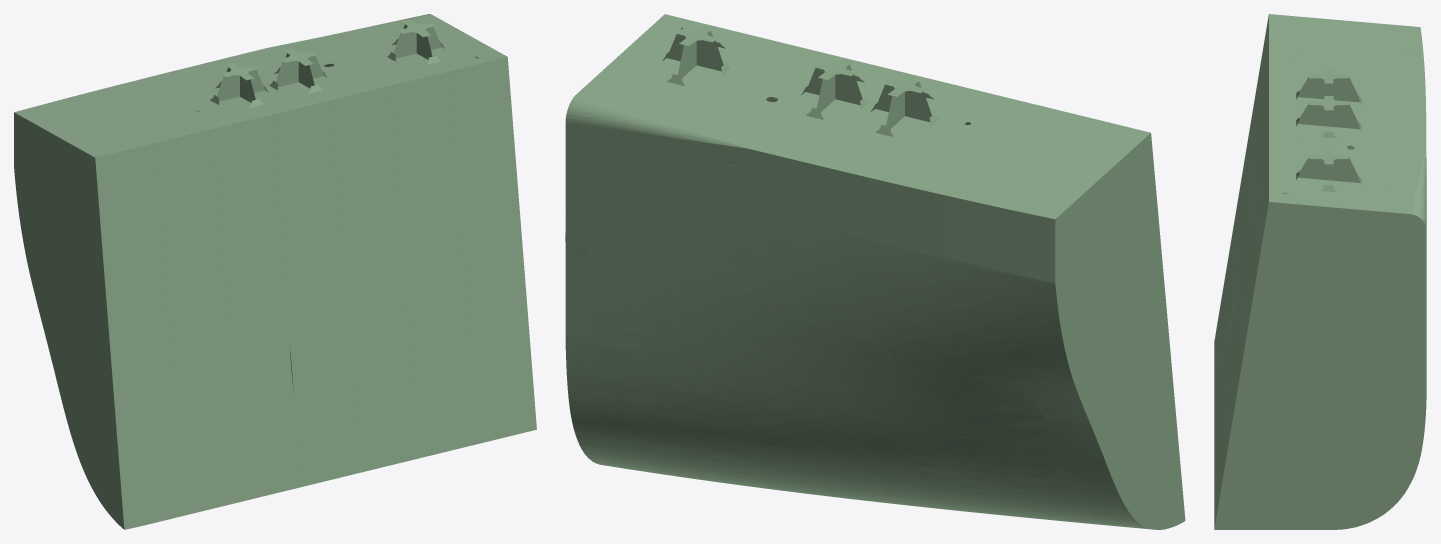
The model's file is NO_5_WING_CARGO_OIL_TK_PS.glb.
3 views of the same model, side by side, from view 1: azimuth 30°, elevation 25°; view 2: azimuth 150°, elevation 25°; view 3: azimuth 270°, elevation 25° (orthographic). The views are drawn at different scales.
Parts seen in each view (by area): view 1: PL_LBHDxNo6CenterTankP_028004-17_NVA32_1993, PL_LBHDxNo6CenterTankP_036001-19.5_NVA36_1993, PL_LBHDxNo6CenterTankP_020001-17.5_NVA32_1993, PL_LBHDxNo6CenterTankP_038004-20.5_NVA32_1993, PL_LBHDxNo6CenterTankP_029009-17_NVA32_1993, PL_LBHDxNo6CenterTankP_008004-15_NVA32_1993, PL_LBHDxNo6CenterTankP_036005-19.5_NVA36_1993, PL_LBHDxNo6CenterTankP_010004-15_NVA32_1993, PL_LBHDxNo6CenterTankP_026006-17.5_NVA36_1993, PL_LBHDxNo6CenterTankP_026004-17.5_NVA36_1993, PL_LBHDxNo6CenterTankP_011010-16_NVA32_1993, PL_LBHDxNo6CenterTankP_019010-17.5_NVA32_1993 (+117 smaller); view 2: PL_OuterShellxNo5SideTankP_021001-18.5_NVA32_1993, PL_OuterShellxNo5SideTankP_030002-18_NVA32_1993, PL_OuterShellxNo5SideTankP_005010-17.5_NVA32_1993, PL_OuterShellxNo5SideTankP_023001-18.5_NVA32_1993, PL_OuterShellxNo5SideTankP_020001-18.5_NVA32_1993, PL_OuterShellxNo5SideTankP_022002-18.5_NVA32_1993, PL_OuterShellxNo5SideTankP_003004-17.5_NVA32_1993, PL_OuterShellxNo5SideTankP_033004-18_NVA32_1993, PL_OuterShellxNo5SideTankP_007004-17.5_NVA32_1993, PL_OuterShellxNo5SideTankP_028002-18_NVA32_1993, PL_OuterShellxNo5SideTankP_005005-17.5_NVA32_1993, PL_OuterShellxNo5SideTankP_006004-17.5_NVA32_1993 (+145 smaller); view 3: PL_SideTransBHDxBHD60P_001001-19.5_NVA32_1993, PL_SideTransBHDxBHD60P_003001-18.5_NVA32_1993, PL_SideTransBHDxBHD60P_002001-19.5_NVA32_1993, PL_SideTransBHDxBHD60P_005001-18.5_NVA32_1993, PL_SideTransBHDxBHD60P_007001-17_NVA32_1993, PL_SideTransBHDxBHD60P_017002-13.5_NVA_1993, PL_SideTransBHDxBHD60P_013001-14.5_NVA32_1993, PL_SideTransBHDxBHD60P_012001-14.5_NVA32_1993, PL_SideTransBHDxBHD60P_008001-17_NVA32_1993, PL_SideTransBHDxBHD60P_019001-13.5_NVA_1993, PL_SideTransBHDxBHD60P_012002-14.5_NVA32_1993, PL_SideTransBHDxBHD60P_007002-17_NVA32_1993 (+80 smaller).
Boxes of the visible parts, x1=… form: PL_LBHDxNo6CenterTankP_028004-17_NVA32_1993: x1=145, y1=364, x2=218, y2=431; PL_LBHDxNo6CenterTankP_036001-19.5_NVA36_1993: x1=437, y1=388, x2=515, y2=452; PL_LBHDxNo6CenterTankP_020001-17.5_NVA32_1993: x1=433, y1=344, x2=511, y2=405; PL_LBHDxNo6CenterTankP_038004-20.5_NVA32_1993: x1=152, y1=459, x2=225, y2=522; PL_LBHDxNo6CenterTankP_029009-17_NVA32_1993: x1=322, y1=322, x2=390, y2=387; PL_LBHDxNo6CenterTankP_008004-15_NVA32_1993: x1=137, y1=271, x2=210, y2=333; PL_LBHDxNo6CenterTankP_036005-19.5_NVA36_1993: x1=330, y1=417, x2=397, y2=478; PL_LBHDxNo6CenterTankP_010004-15_NVA32_1993: x1=315, y1=229, x2=382, y2=290; PL_LBHDxNo6CenterTankP_026006-17.5_NVA36_1993: x1=239, y1=106, x2=307, y2=165; PL_LBHDxNo6CenterTankP_026004-17.5_NVA36_1993: x1=304, y1=91, x2=371, y2=149; PL_LBHDxNo6CenterTankP_011010-16_NVA32_1993: x1=142, y1=330, x2=214, y2=380; PL_LBHDxNo6CenterTankP_019010-17.5_NVA32_1993: x1=150, y1=426, x2=221, y2=475; PL_OuterShellxNo5SideTankP_021001-18.5_NVA32_1993: x1=591, y1=247, x2=679, y2=320; PL_OuterShellxNo5SideTankP_030002-18_NVA32_1993: x1=730, y1=281, x2=809, y2=348; PL_OuterShellxNo5SideTankP_005010-17.5_NVA32_1993: x1=935, y1=298, x2=1028, y2=360; PL_OuterShellxNo5SideTankP_023001-18.5_NVA32_1993: x1=591, y1=351, x2=686, y2=411; PL_OuterShellxNo5SideTankP_020001-18.5_NVA32_1993: x1=595, y1=403, x2=698, y2=459; PL_OuterShellxNo5SideTankP_022002-18.5_NVA32_1993: x1=591, y1=312, x2=681, y2=370; PL_OuterShellxNo5SideTankP_003004-17.5_NVA32_1993: x1=933, y1=255, x2=1020, y2=313; PL_OuterShellxNo5SideTankP_033004-18_NVA32_1993: x1=730, y1=207, x2=805, y2=266; PL_OuterShellxNo5SideTankP_007004-17.5_NVA32_1993: x1=953, y1=405, x2=1056, y2=446; PL_OuterShellxNo5SideTankP_028002-18_NVA32_1993: x1=734, y1=368, x2=818, y2=417; PL_OuterShellxNo5SideTankP_005005-17.5_NVA32_1993: x1=883, y1=287, x2=940, y2=344; PL_OuterShellxNo5SideTankP_006004-17.5_NVA32_1993: x1=941, y1=345, x2=1035, y2=386; PL_SideTransBHDxBHD60P_001001-19.5_NVA32_1993: x1=1214, y1=488, x2=1306, y2=529; PL_SideTransBHDxBHD60P_003001-18.5_NVA32_1993: x1=1221, y1=449, x2=1306, y2=488; PL_SideTransBHDxBHD60P_002001-19.5_NVA32_1993: x1=1320, y1=483, x2=1409, y2=529; PL_SideTransBHDxBHD60P_005001-18.5_NVA32_1993: x1=1320, y1=449, x2=1401, y2=483; PL_SideTransBHDxBHD60P_007001-17_NVA32_1993: x1=1229, y1=404, x2=1306, y2=441; PL_SideTransBHDxBHD60P_017002-13.5_NVA_1993: x1=1340, y1=252, x2=1426, y2=281; PL_SideTransBHDxBHD60P_013001-14.5_NVA32_1993: x1=1361, y1=325, x2=1426, y2=363; PL_SideTransBHDxBHD60P_012001-14.5_NVA32_1993: x1=1242, y1=325, x2=1306, y2=363; PL_SideTransBHDxBHD60P_008001-17_NVA32_1993: x1=1361, y1=404, x2=1425, y2=441; PL_SideTransBHDxBHD60P_019001-13.5_NVA_1993: x1=1340, y1=208, x2=1412, y2=240; PL_SideTransBHDxBHD60P_012002-14.5_NVA32_1993: x1=1306, y1=325, x2=1361, y2=363; PL_SideTransBHDxBHD60P_007002-17_NVA32_1993: x1=1306, y1=404, x2=1361, y2=441.
Size of the model in its own units: 36.68 by 31.5 by 17.51.
